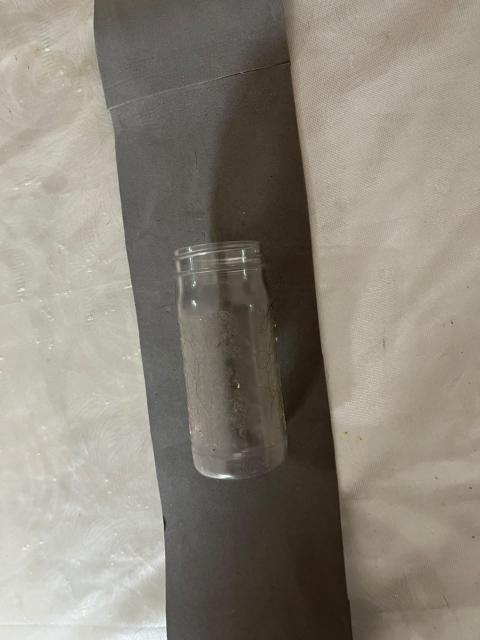PET: (147, 188, 305, 512)
